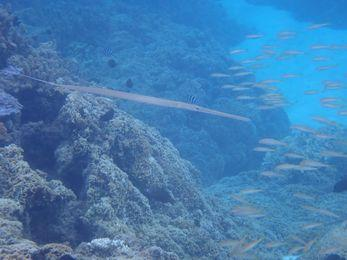Fistularia commersonii: (10, 69, 248, 119)
